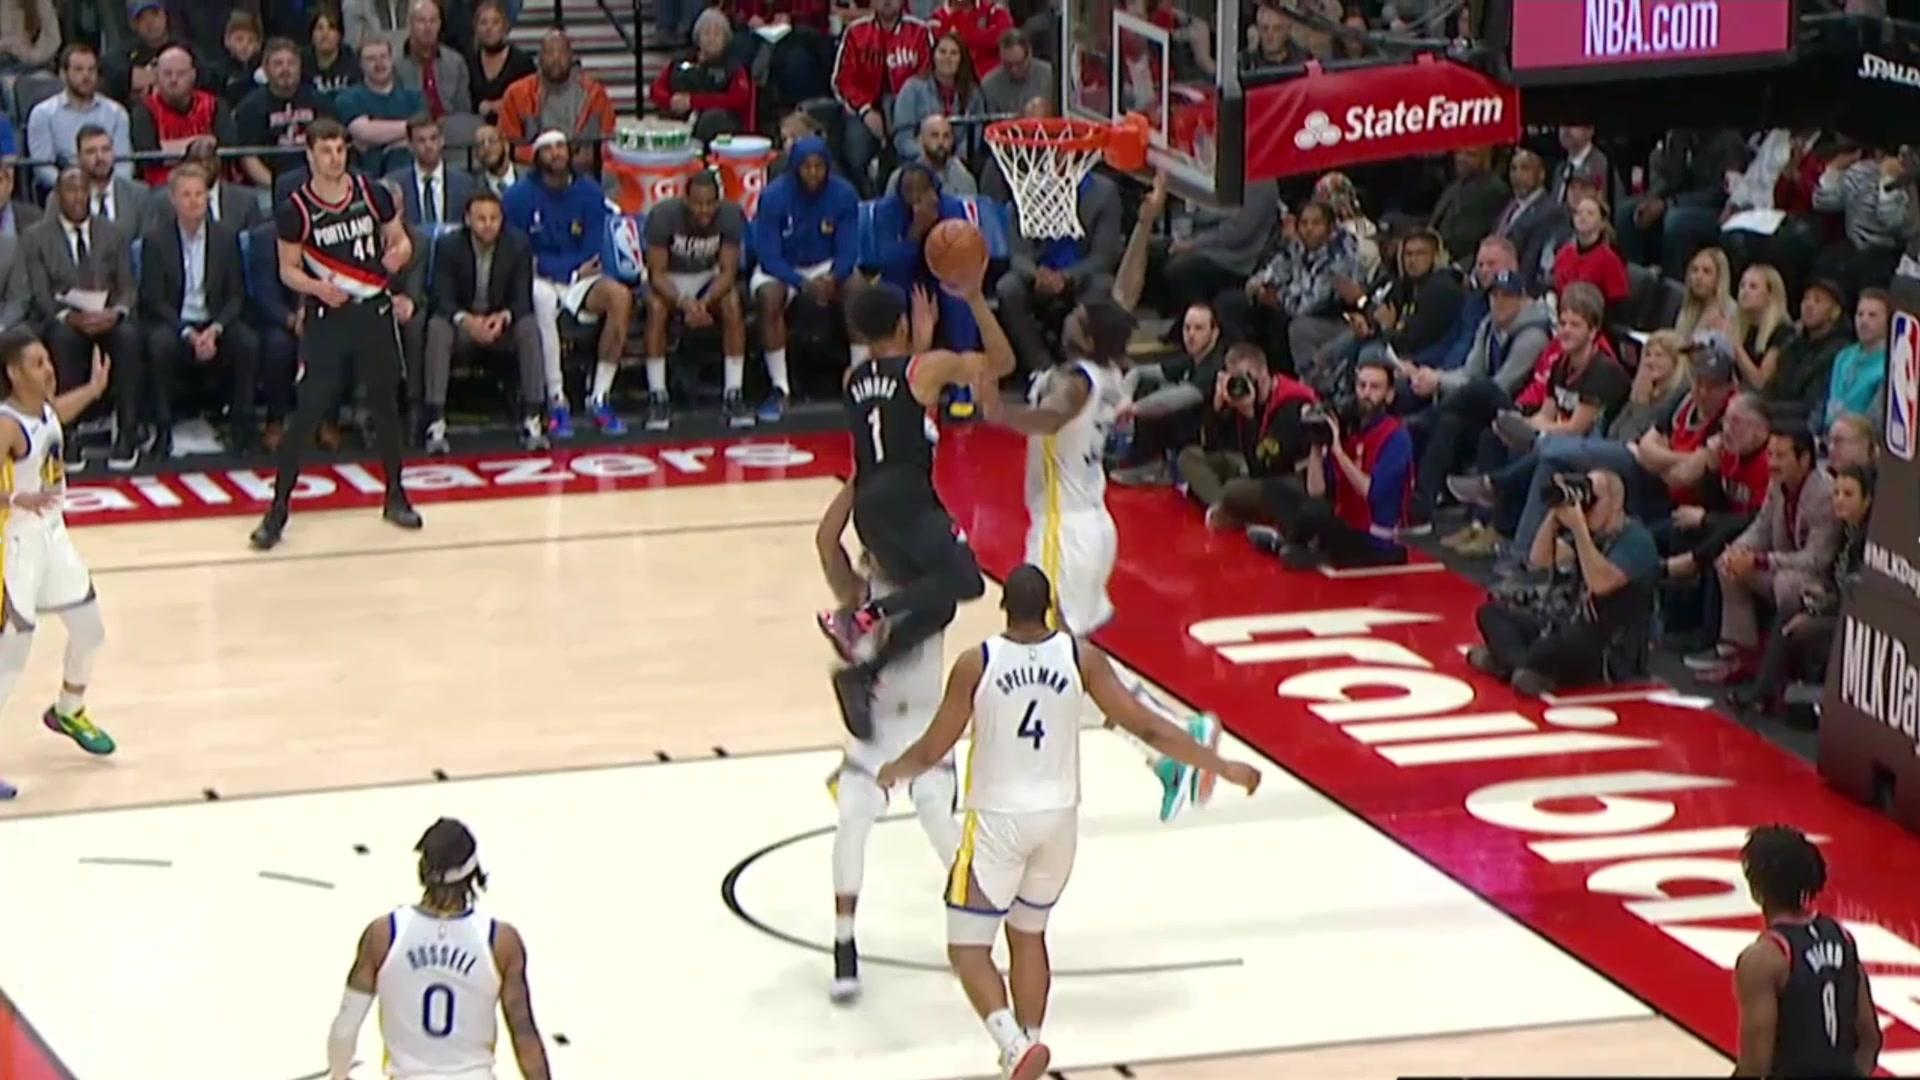foul: (832, 302, 965, 918)
